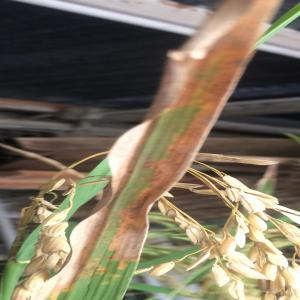Bacterial_Blight: (90, 103, 180, 300)
